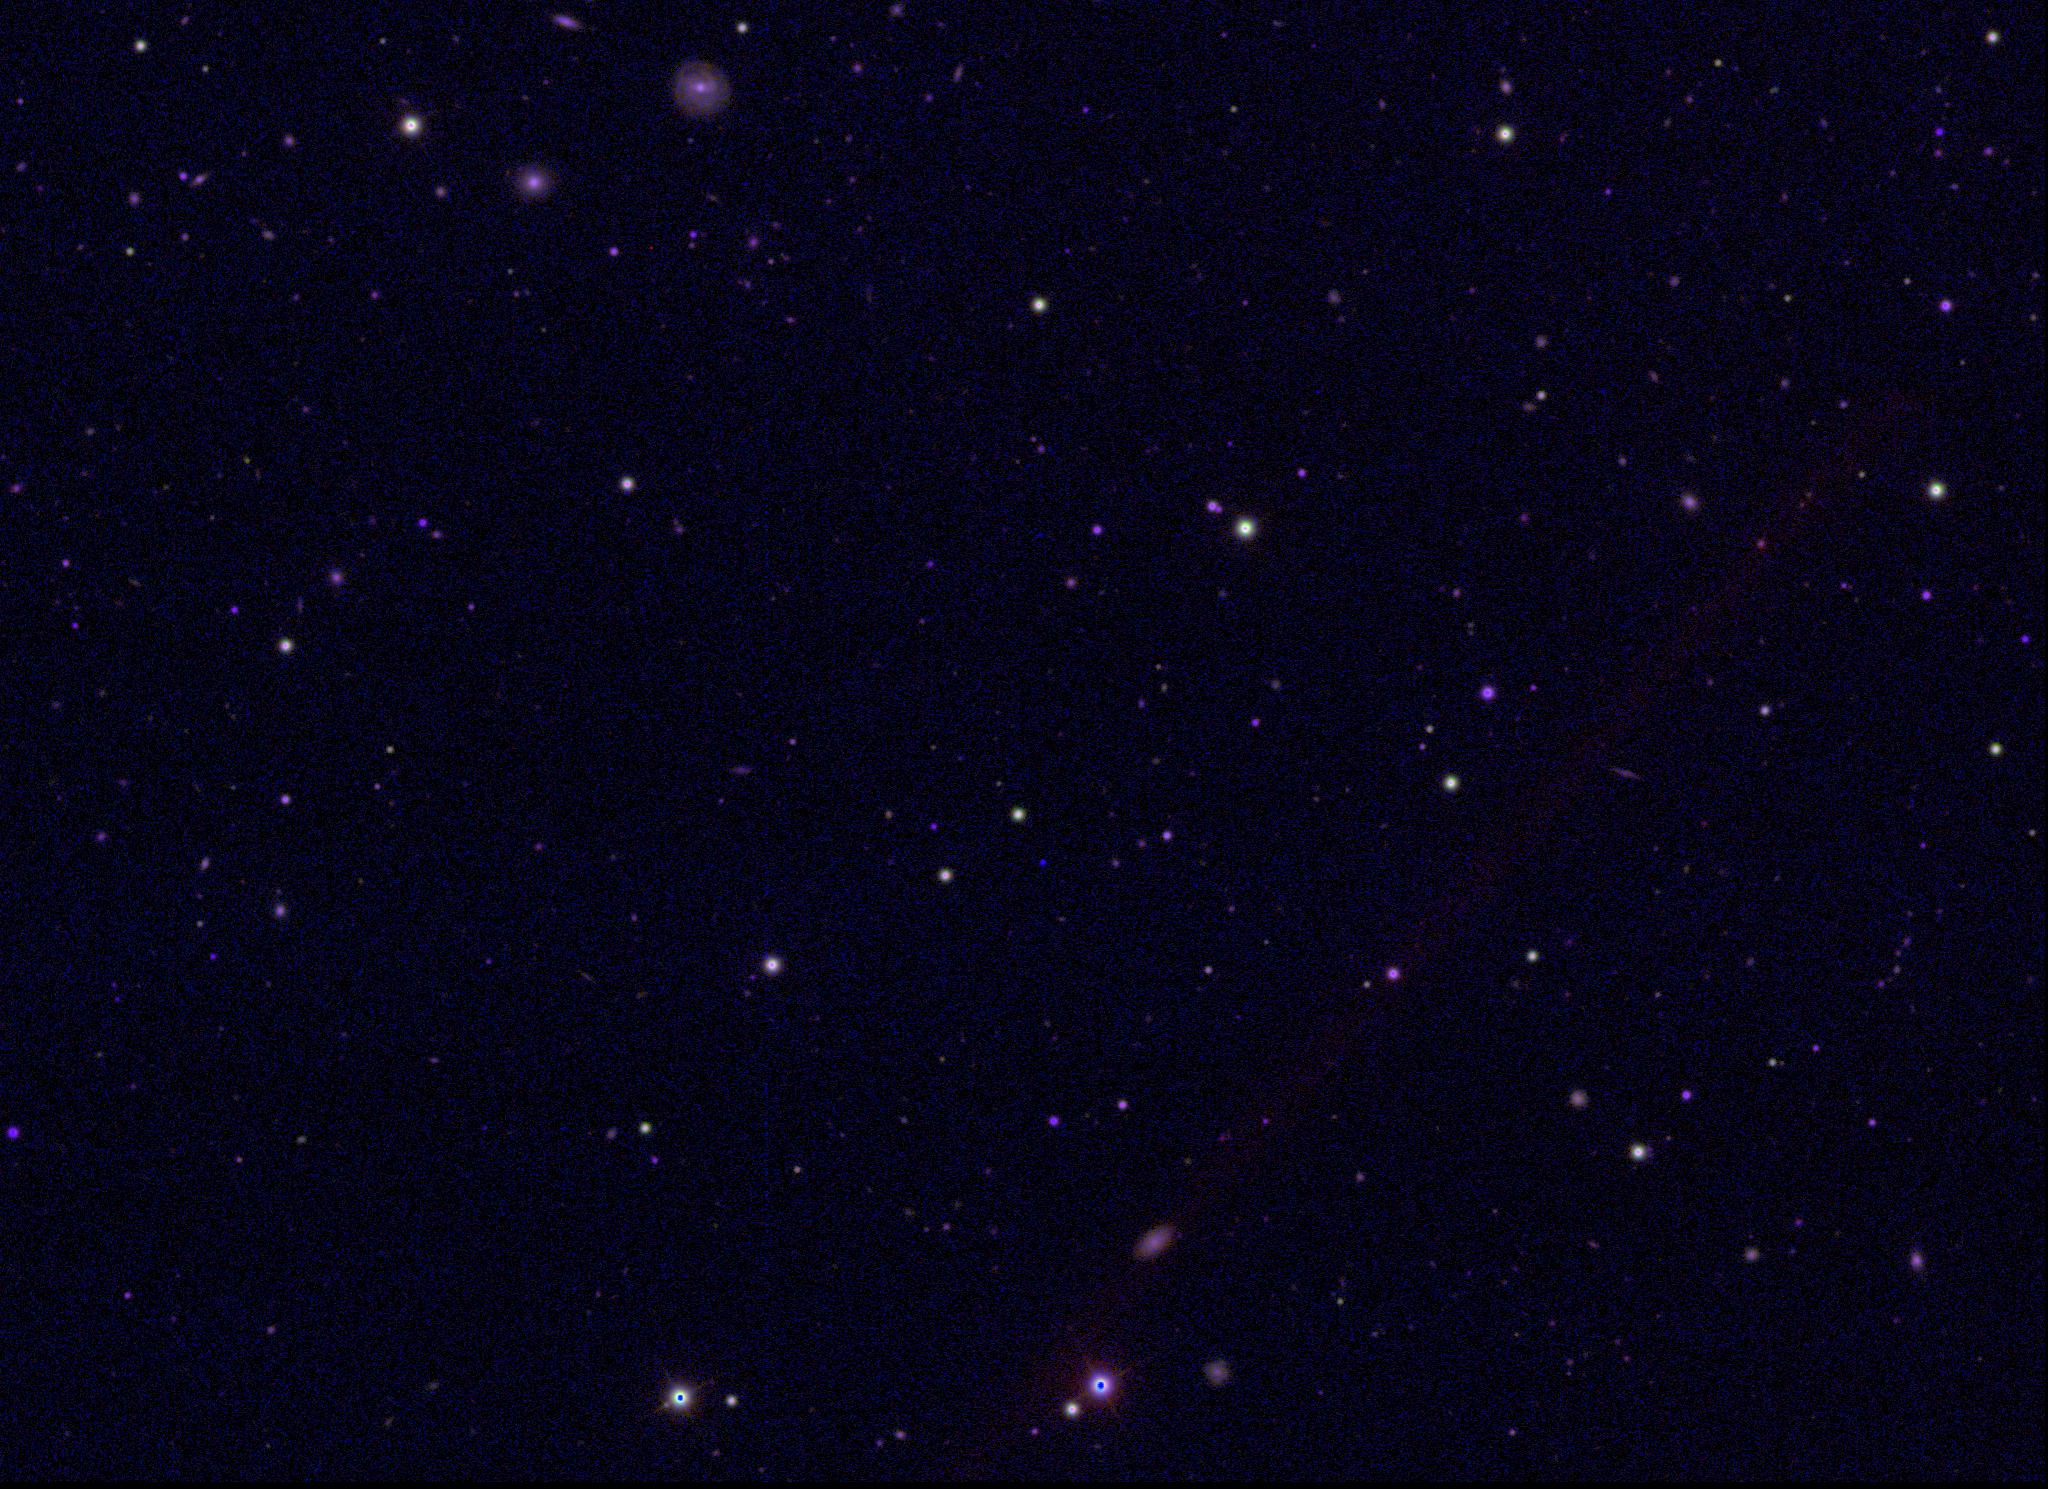L: (1037, 854, 1049, 869)
